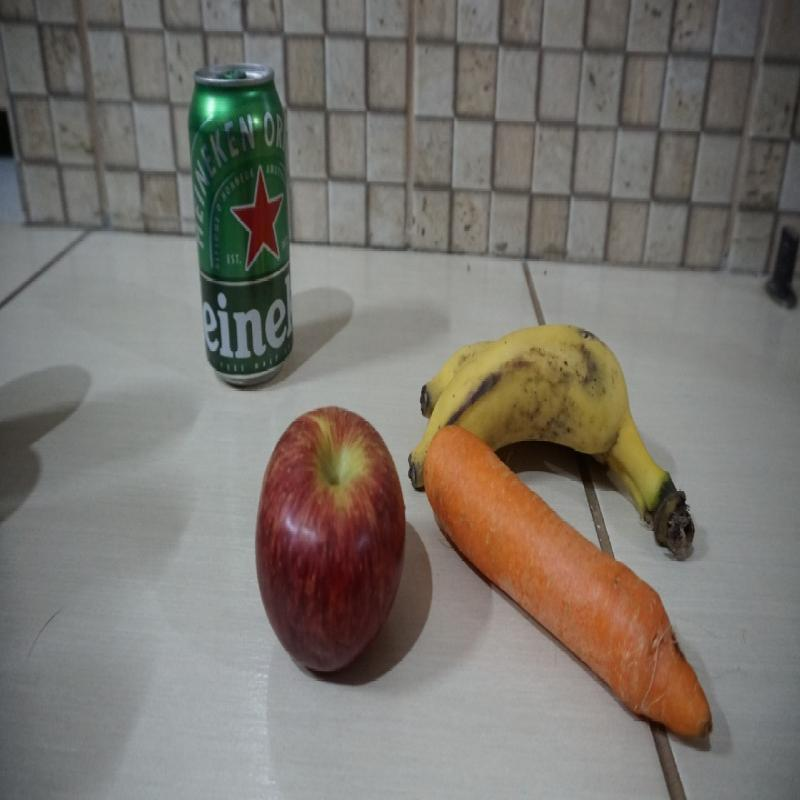Apple: (253, 406, 408, 682)
Banana: (407, 325, 669, 491)
Beer can: (187, 61, 298, 389)
Carrot: (425, 426, 715, 743)
